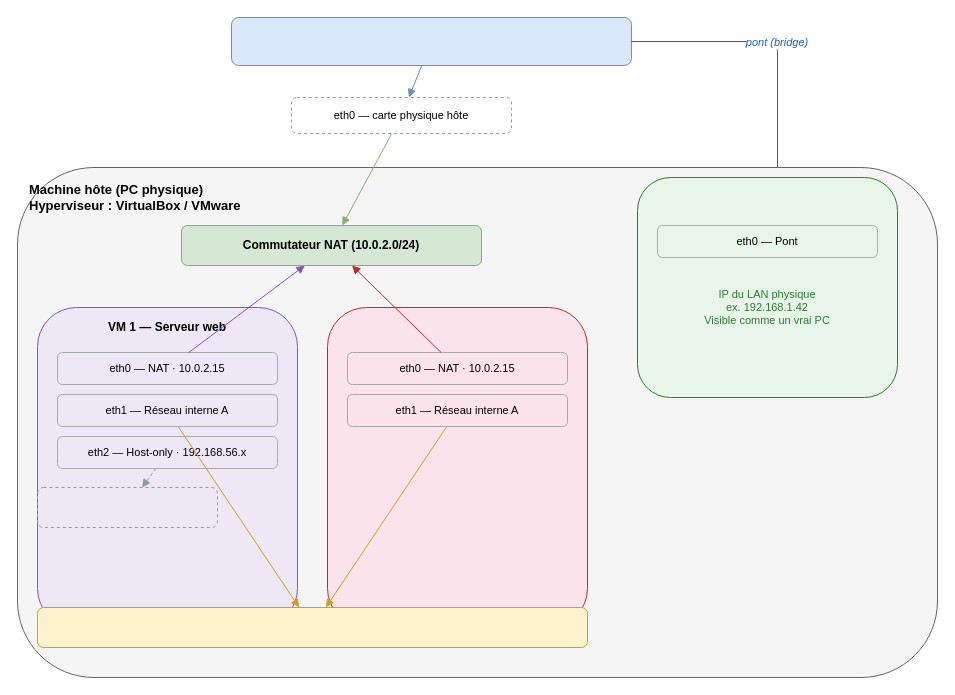
The diagram is 955 pixels wide and 695 high, and some of its shapes have lost their labels. Each missing label, with the box of its shape:
Host-only (192.168.56.0/24): (36, 486, 218, 528)
Internet / LAN physique (192.168.1.0/24): (230, 16, 632, 66)
Réseau interne A (192.168.10.0/24): (36, 606, 588, 648)
VM 2 — Client: (326, 306, 588, 628)
VM 3 — Mode pont: (636, 176, 898, 398)
